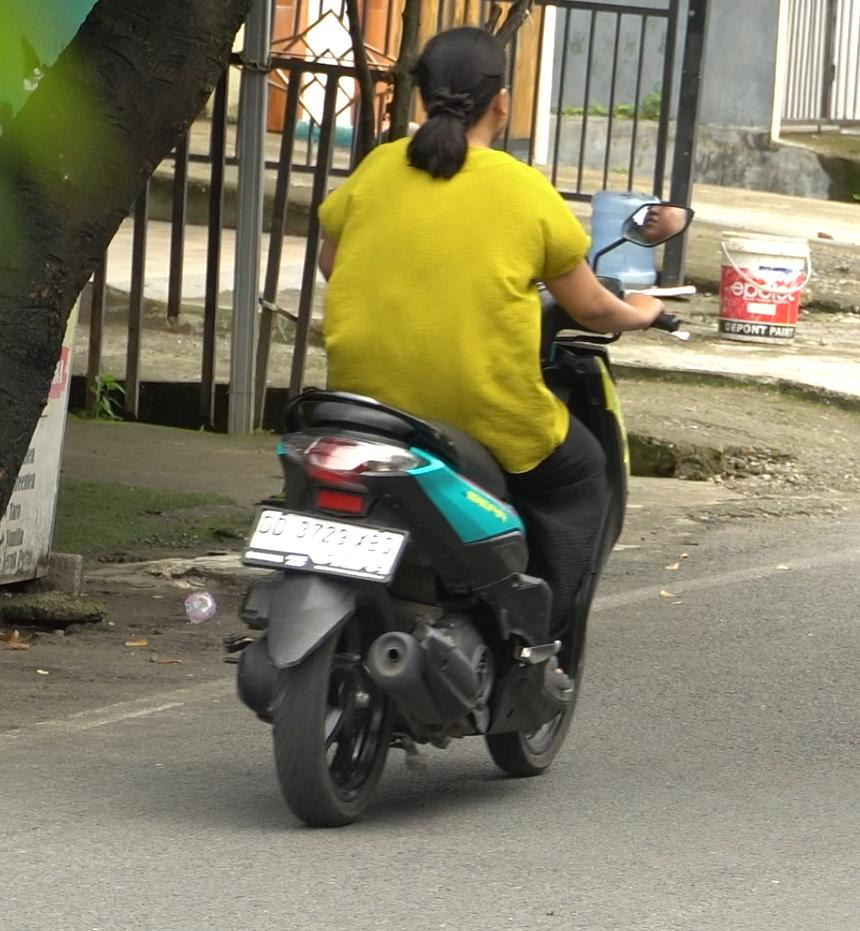number-plate: (238, 506, 404, 585)
